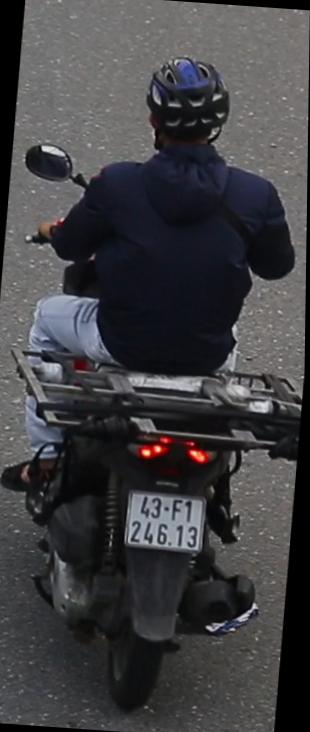LP: (120, 488, 220, 558)
helmet: (140, 46, 242, 177)
